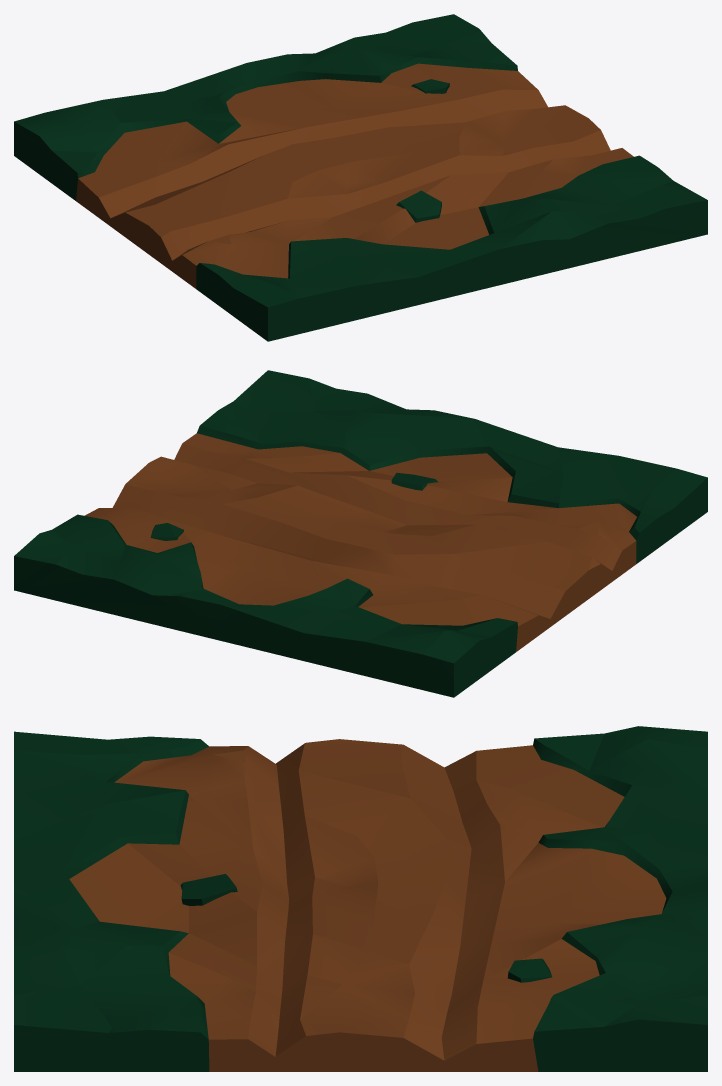
The model's file is Ground_Road_H_1.fbx.
3 renders of one model, top to bottom at view 1: azimuth 30°, elevation 25°; view 2: azimuth 150°, elevation 25°; view 3: azimuth 270°, elevation 25°, orthographic. The views are drawn at different scales.
Visible parts, largest first — view 1: Ground_Road_H_1; view 2: Ground_Road_H_1; view 3: Ground_Road_H_1.
Boxes of the visible parts, x1,y1,x2,y2 form: Ground_Road_H_1: [14, 14, 707, 341]; Ground_Road_H_1: [14, 370, 707, 697]; Ground_Road_H_1: [14, 726, 707, 1071].
Bounding box in the file's own units: 147 × 15.12 × 147.
